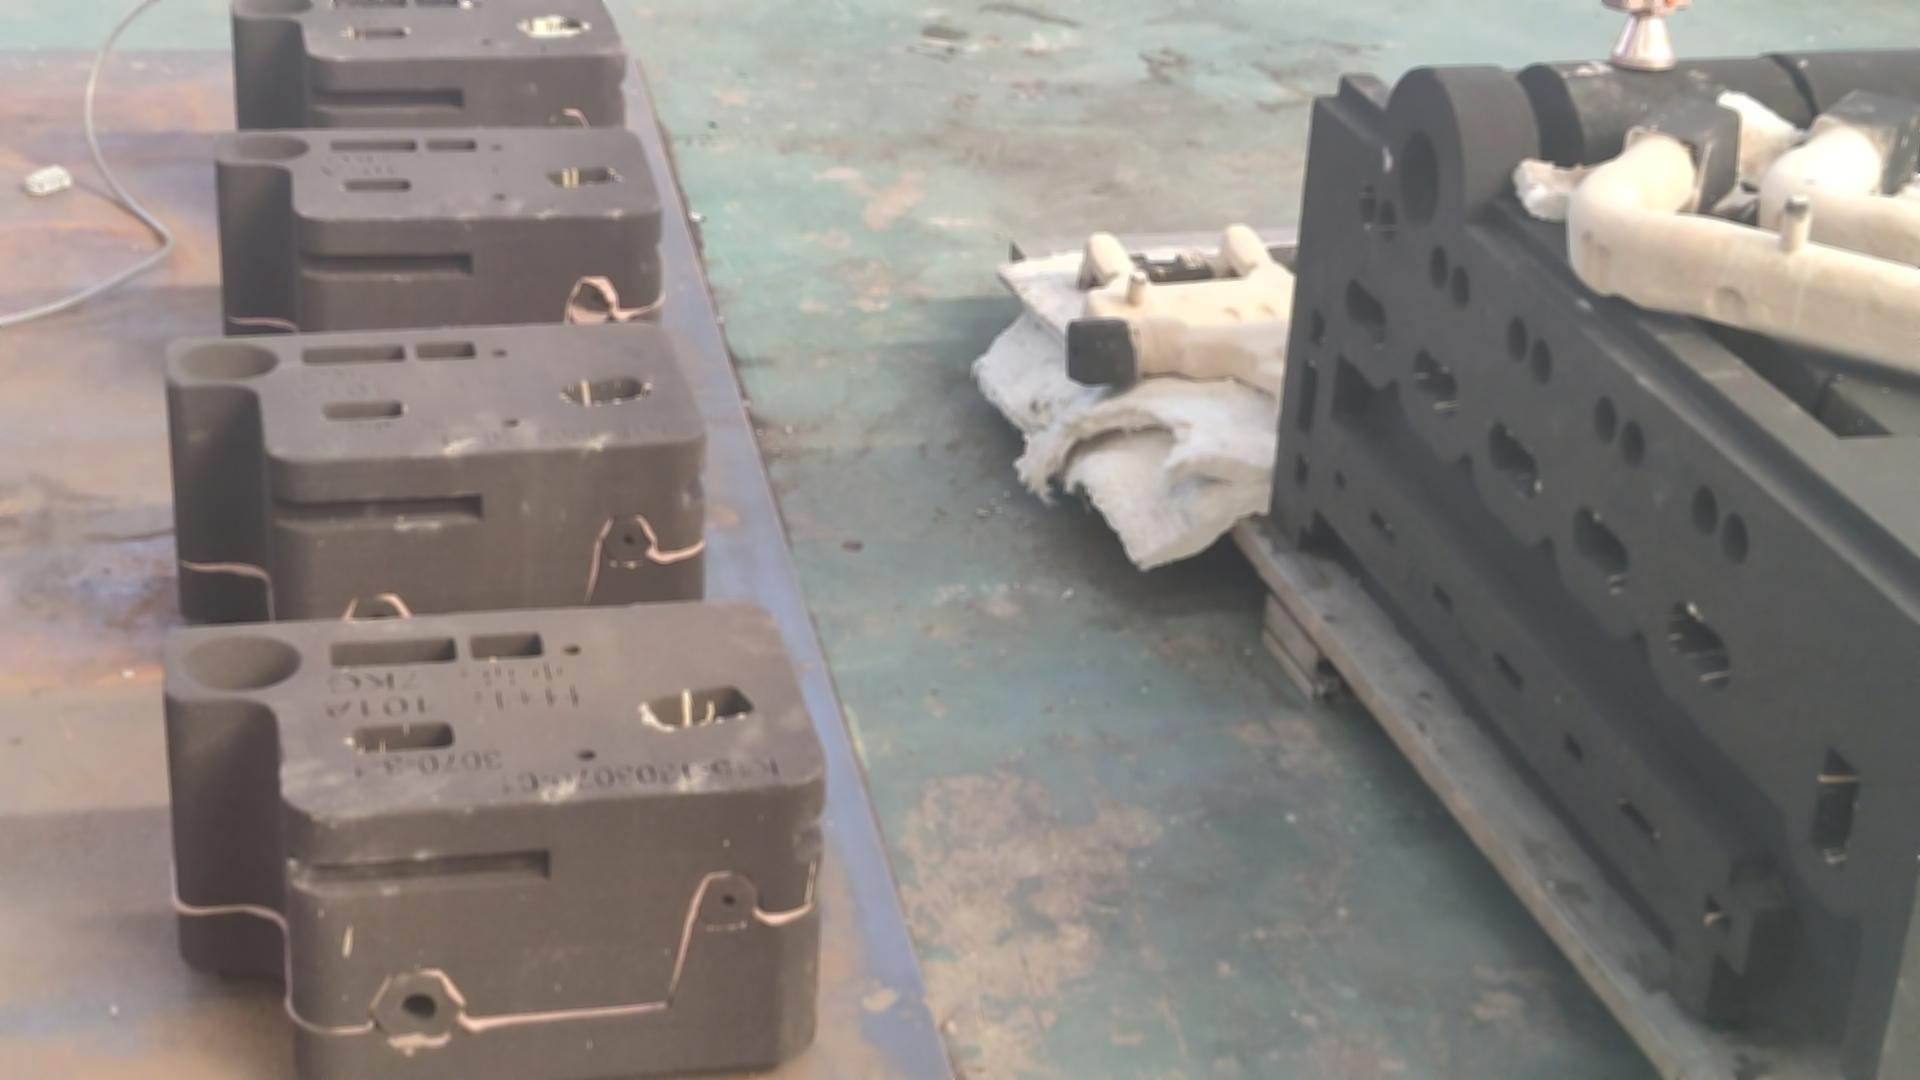pouring hole: (178, 634, 309, 694), (170, 340, 284, 385), (1394, 127, 1443, 231), (211, 133, 310, 164), (227, 1, 313, 18)
